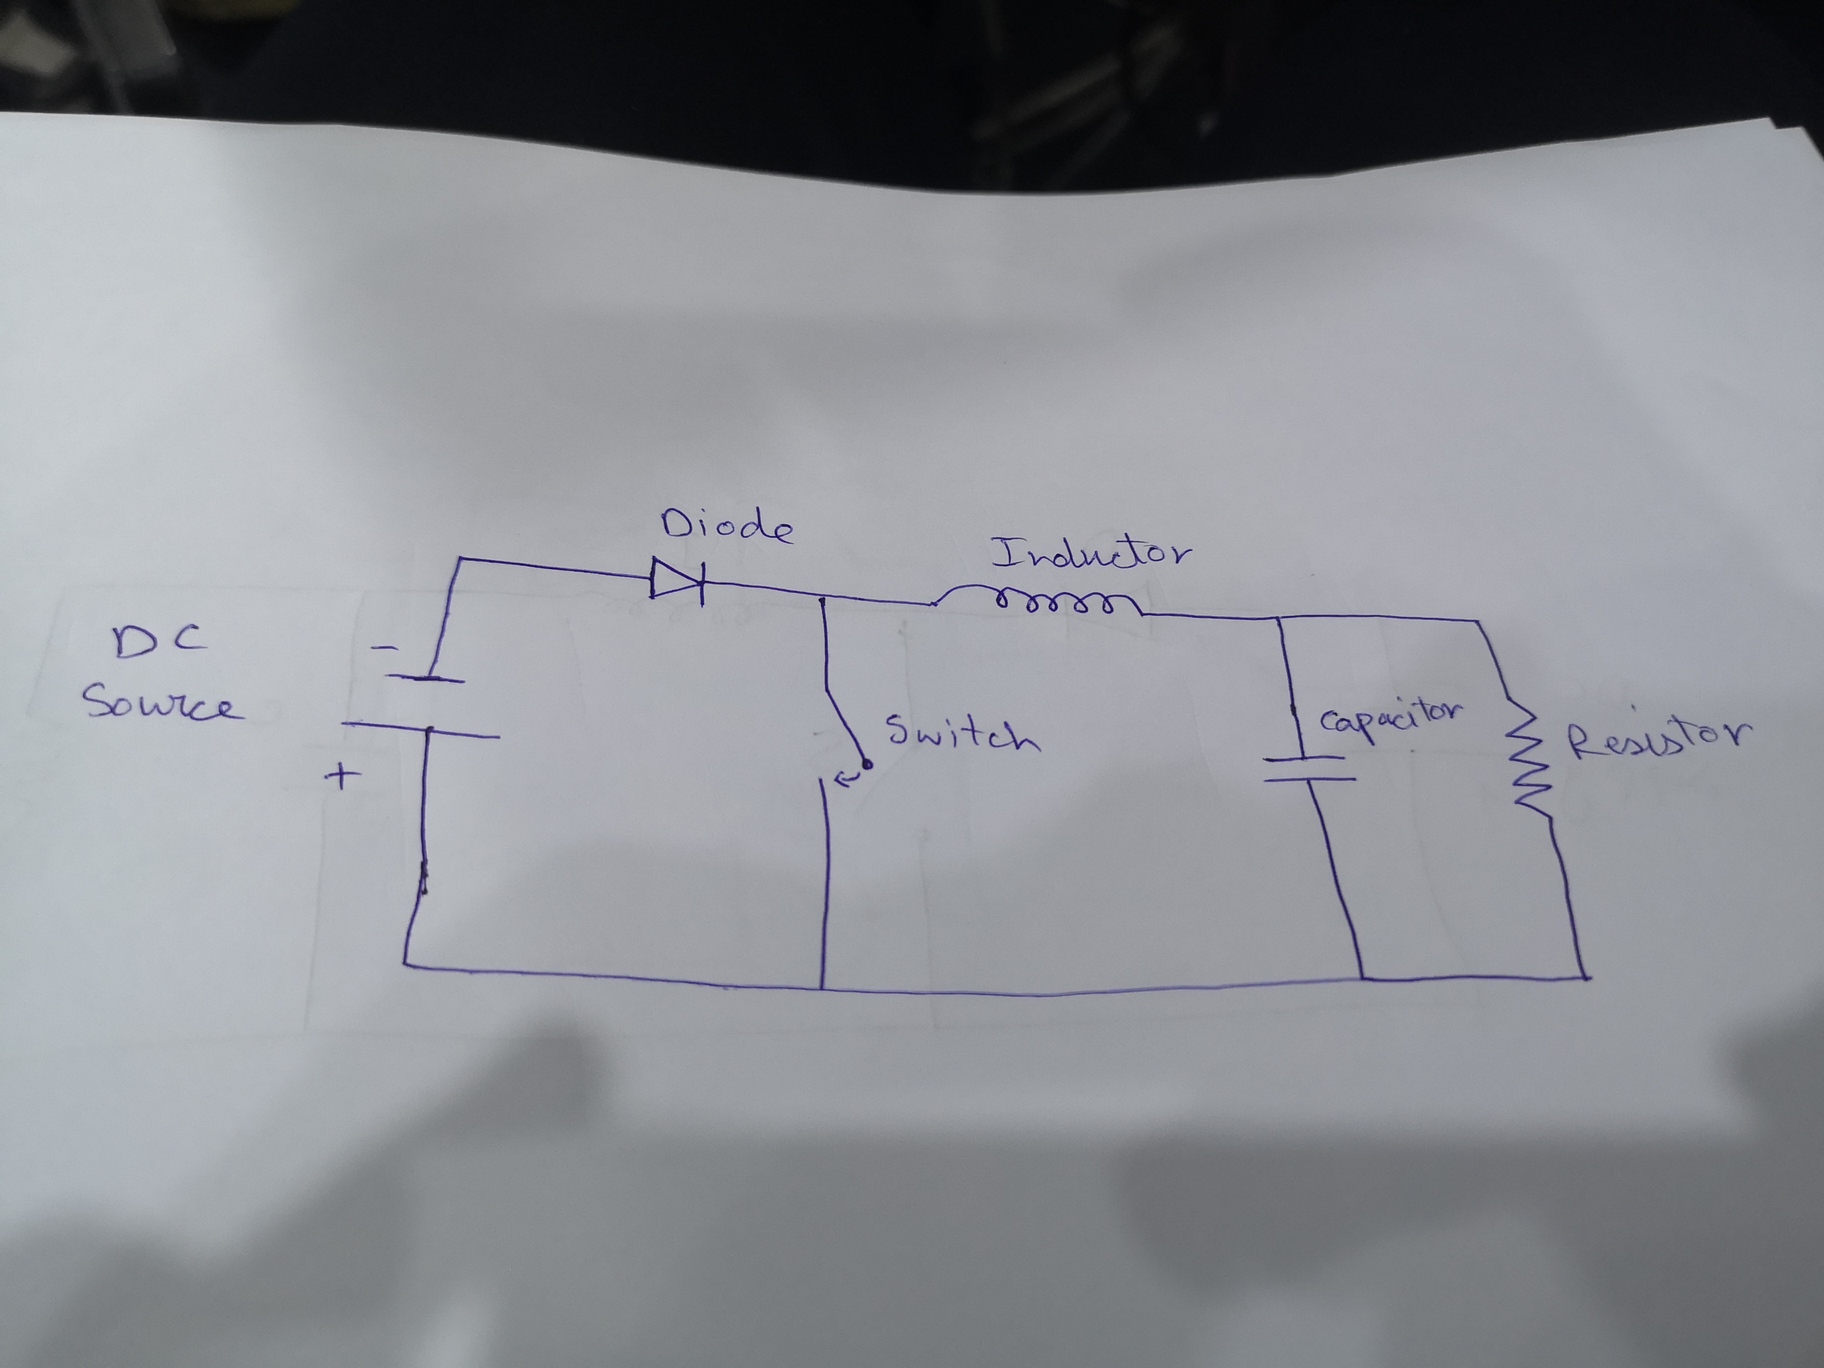capacitor.unpolarized: (1257, 749, 1356, 787)
diode: (641, 550, 712, 606)
inductor: (922, 578, 1149, 624)
junction: (441, 542, 475, 578), (804, 969, 836, 1002), (389, 947, 422, 979), (804, 583, 836, 612), (1349, 966, 1377, 992), (1464, 608, 1489, 637), (1570, 963, 1597, 989), (1267, 609, 1288, 628)
resistor: (1499, 697, 1558, 822)
switch: (804, 680, 880, 803)
text: (1563, 698, 1759, 766), (78, 677, 251, 727), (987, 535, 1192, 573), (1311, 695, 1466, 746), (878, 708, 1043, 753), (653, 502, 797, 545), (103, 616, 215, 661)
voltage.dc: (319, 635, 516, 799)
